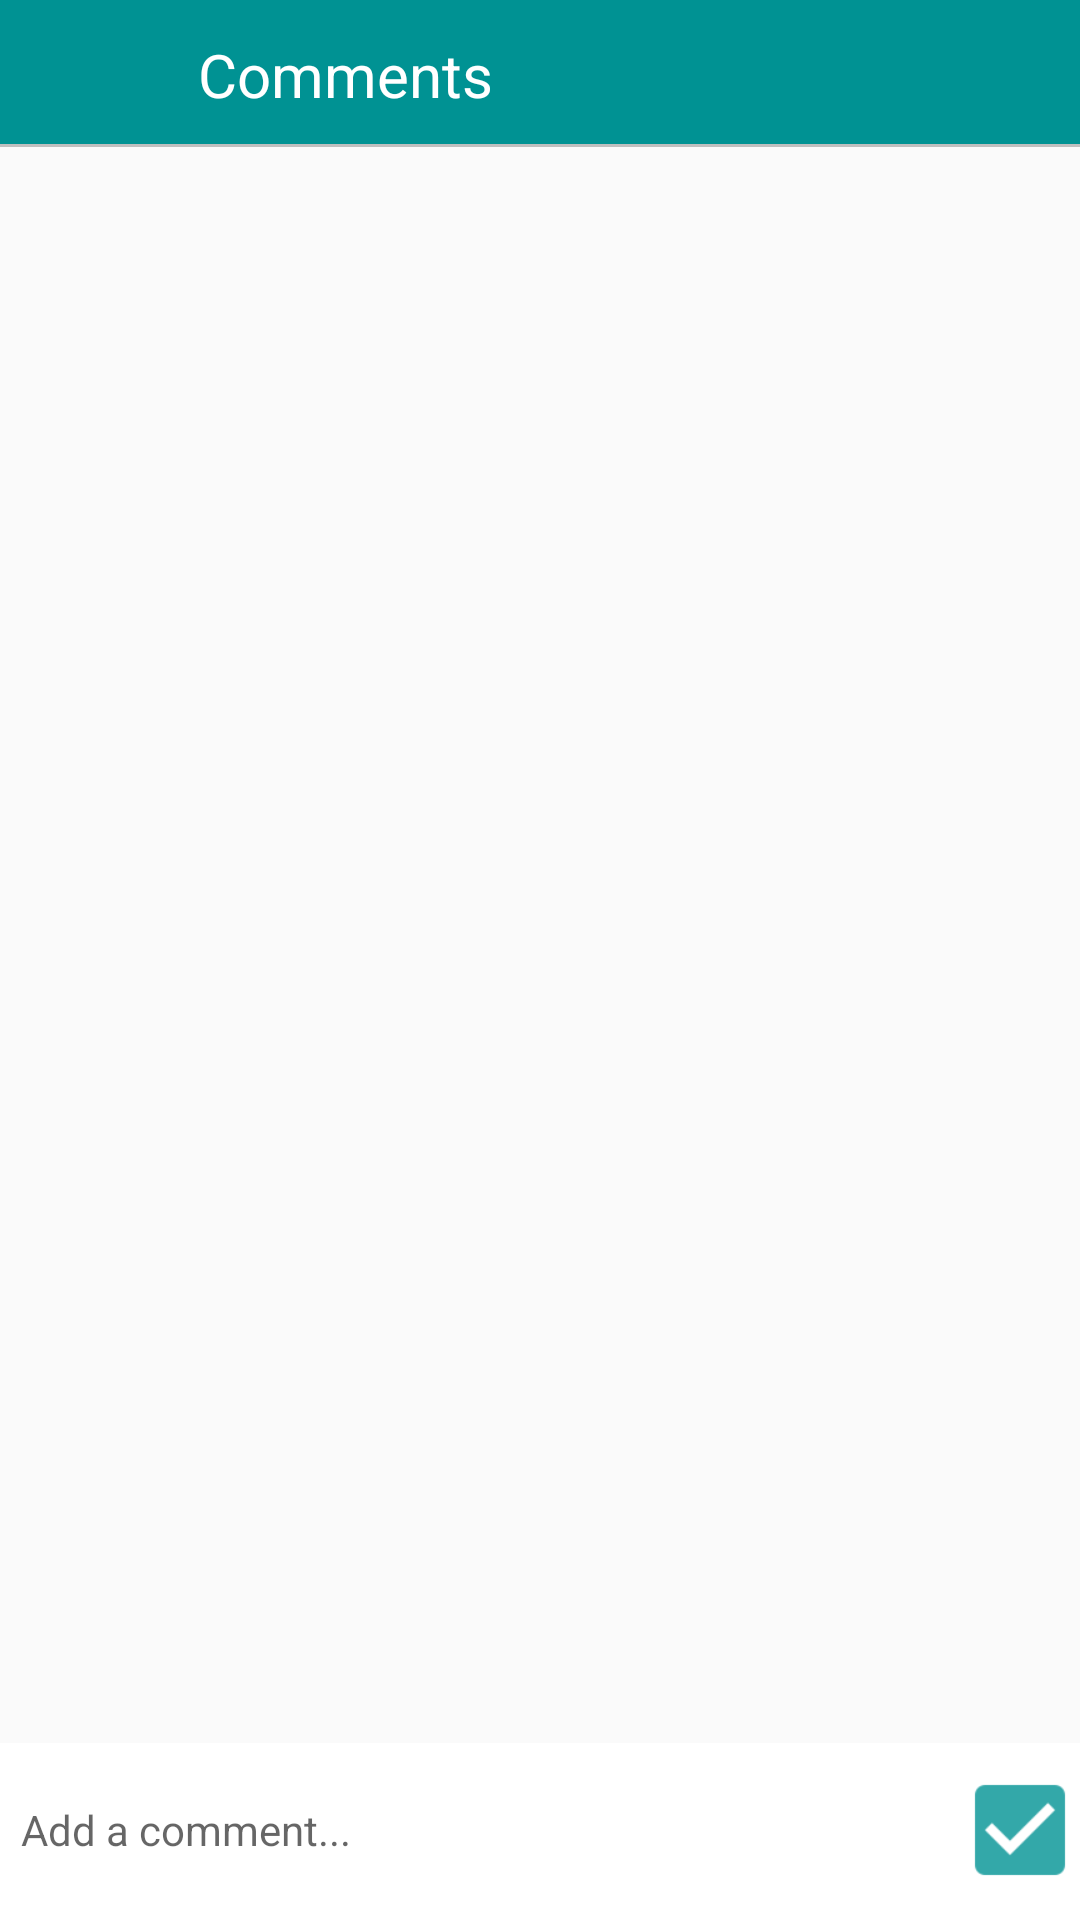

Point at icon controls on the screen. Image size 1080px x 1920px, points as point (x, y).
checkmark: point (1020, 1830)
